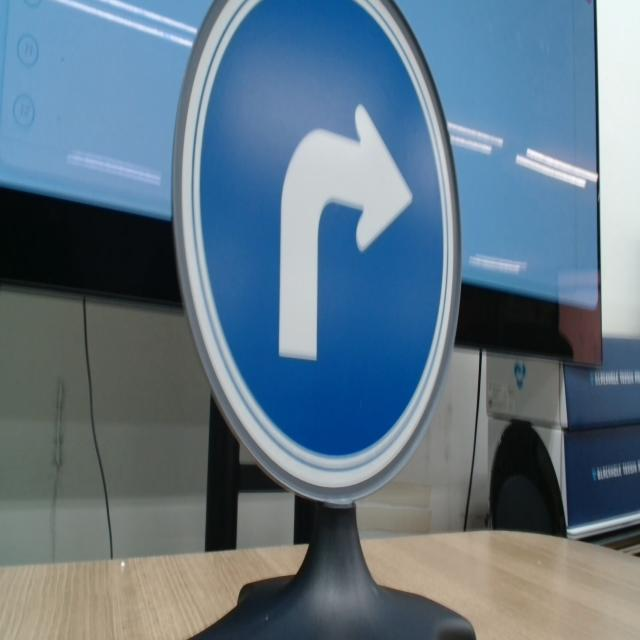right_dierection: (168, 0, 464, 516)
